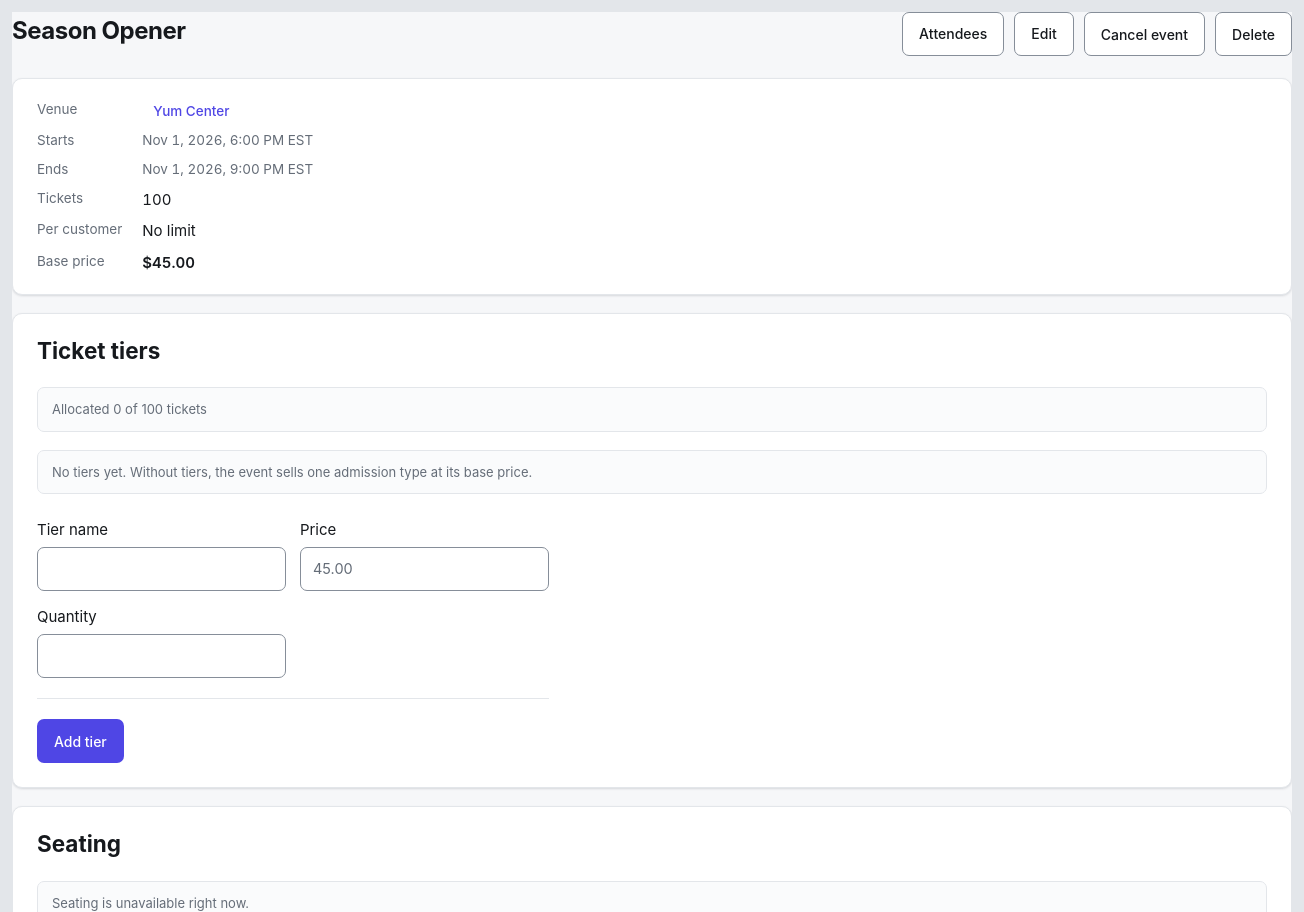
Test: Cancel event › shows a refusal in the banner
The width and height of the screenshot is (1304, 912).
Click the button "Cancel event".
click(1144, 34)  # box [1084,12,1205,56]
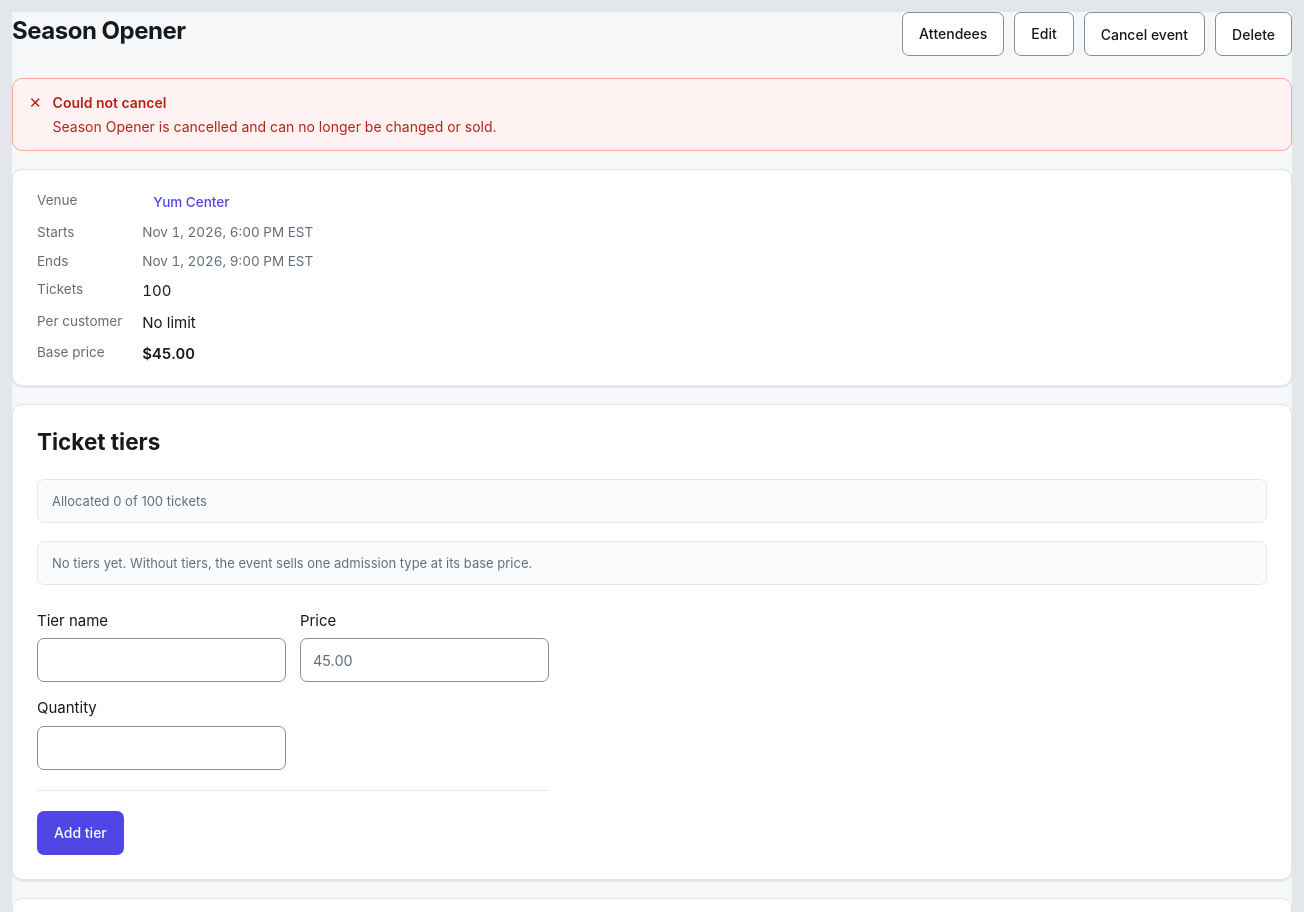
Expected: the message shows "can no longer be changed", [53,118,497,135]
